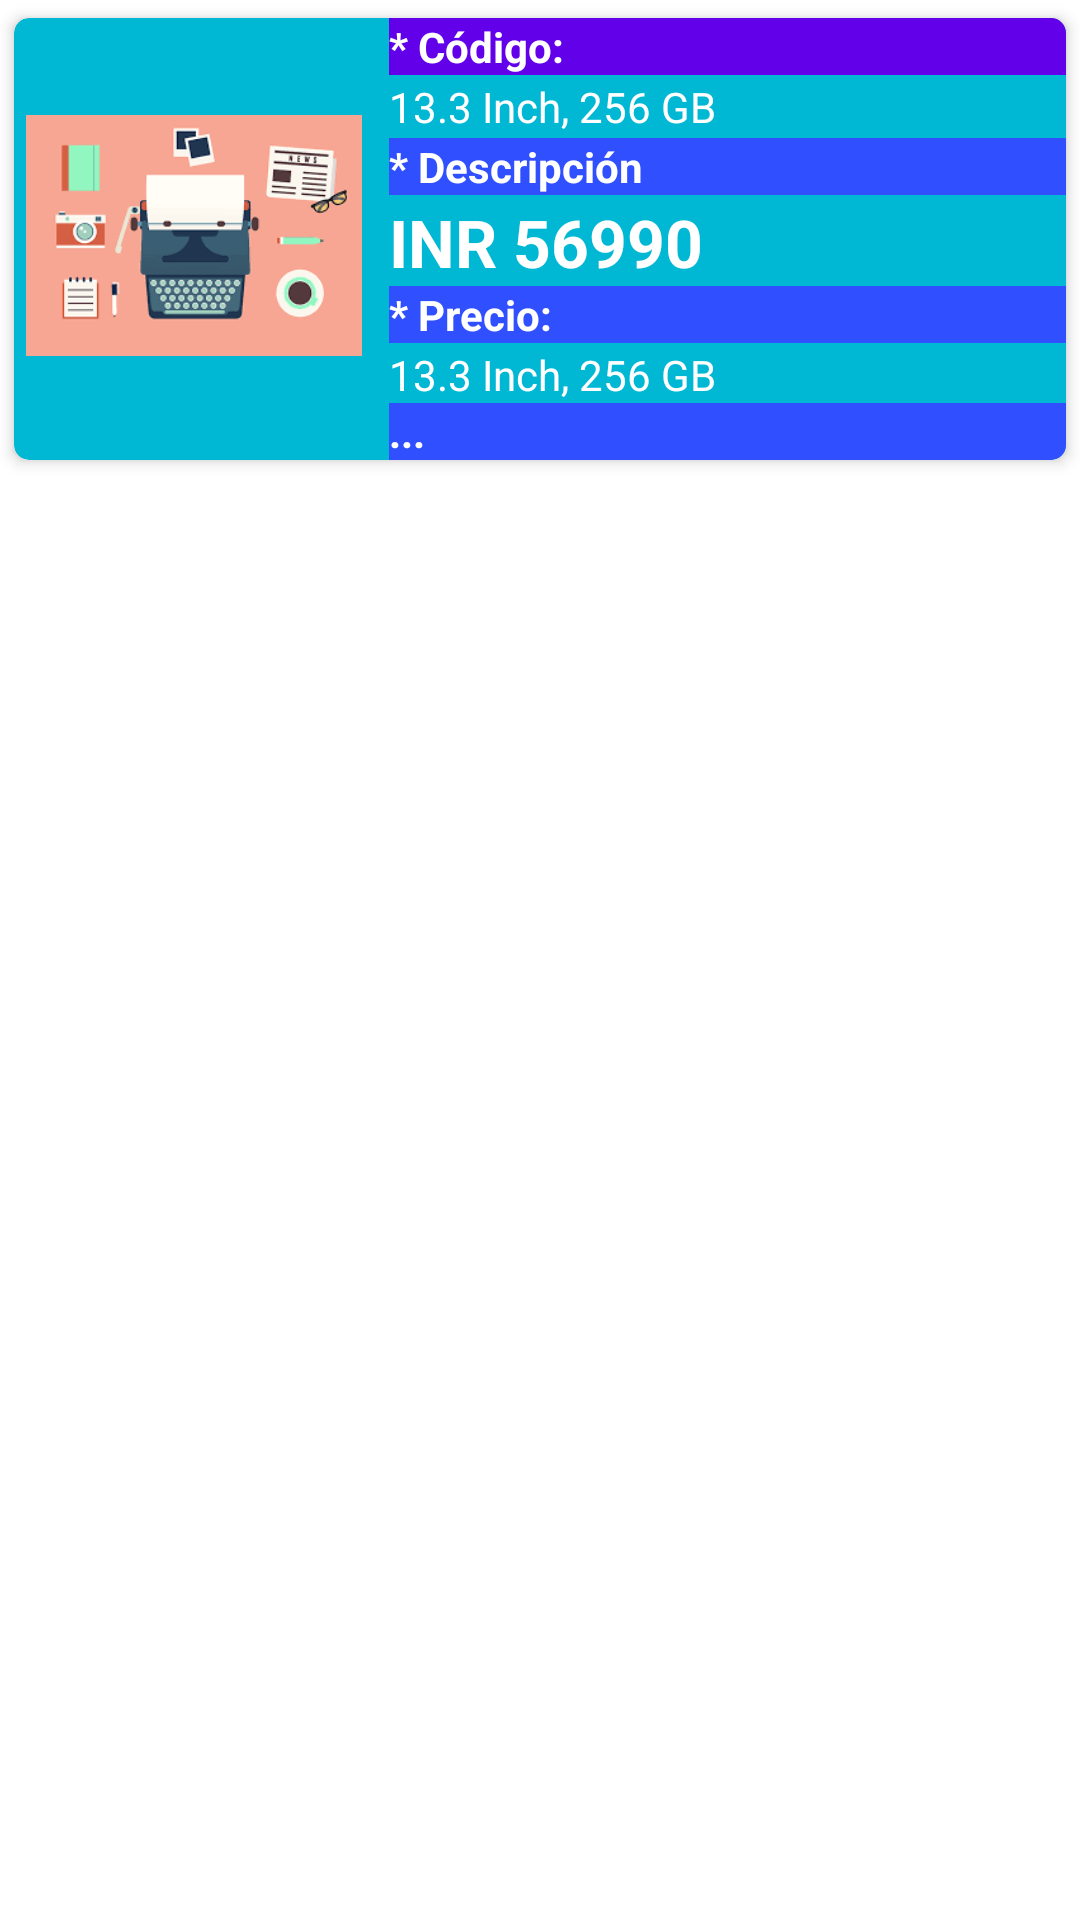

Screen size 1080*1920. Icon name, then its box in pixels as (x1, y1, x2, y2):
ima: (26, 115, 362, 356)
